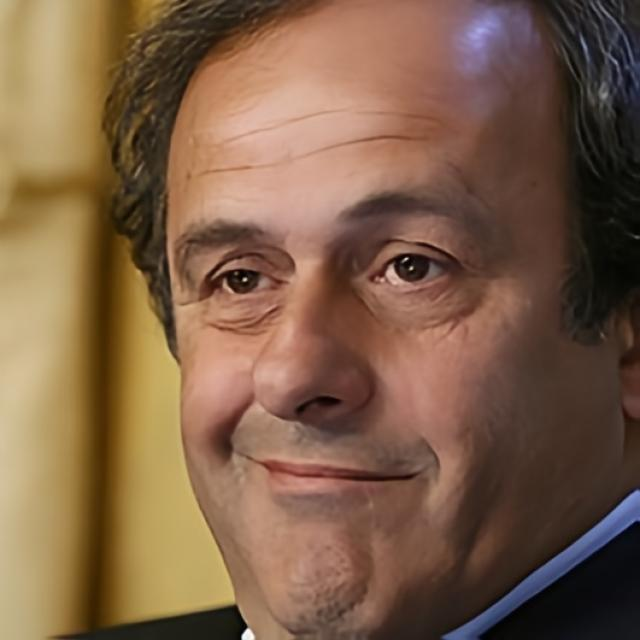content: (165, 0, 624, 640)
